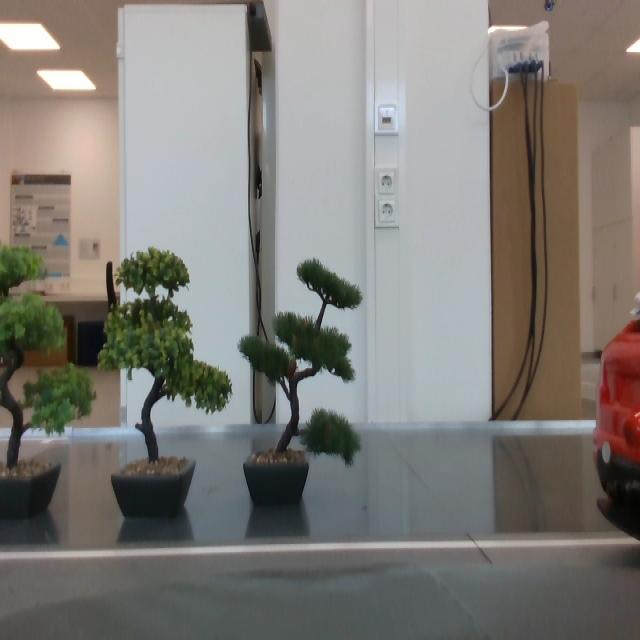car: (592, 293, 640, 545)
potted plant: (95, 247, 233, 516), (238, 257, 363, 505), (1, 244, 93, 518)
